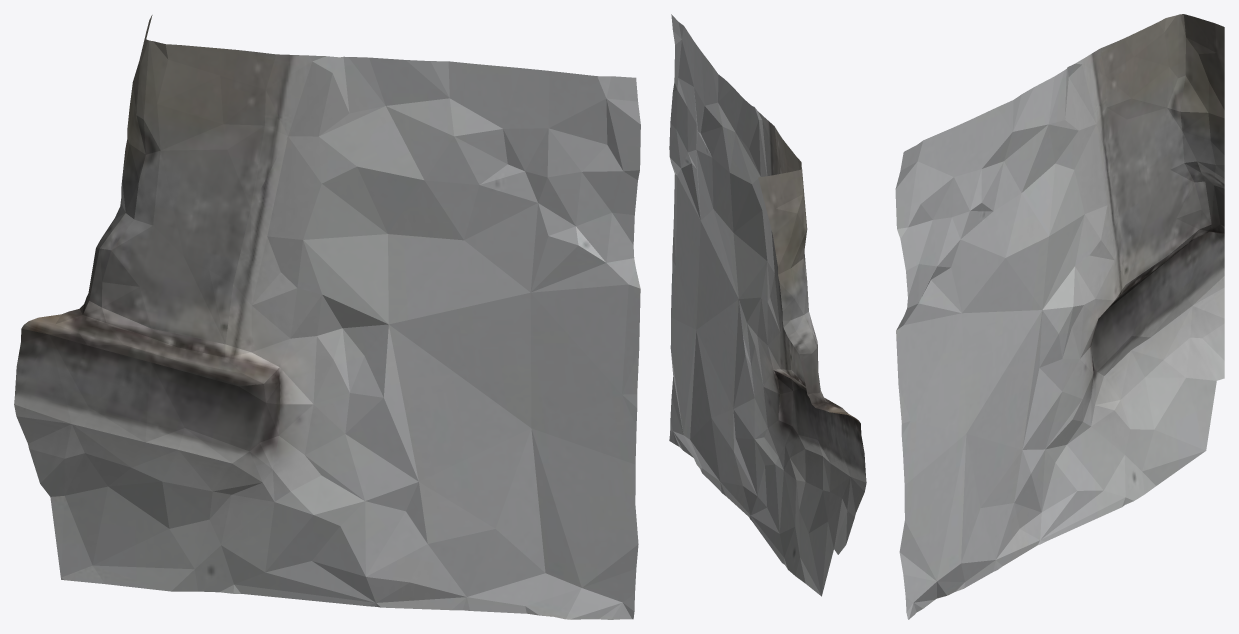
The picture shows the model from 3 angles, left to right: view 1: azimuth 30°, elevation 25°; view 2: azimuth 150°, elevation 25°; view 3: azimuth 270°, elevation 25°; orthographic projection. The views are drawn at different scales.
Size of the model in its own units: 0.7028 by 0.8373 by 0.5335.
2 materials, 2 textured.
